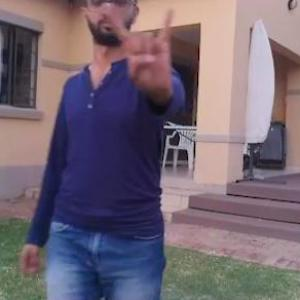takeoff-hand: (103, 0, 180, 100)
